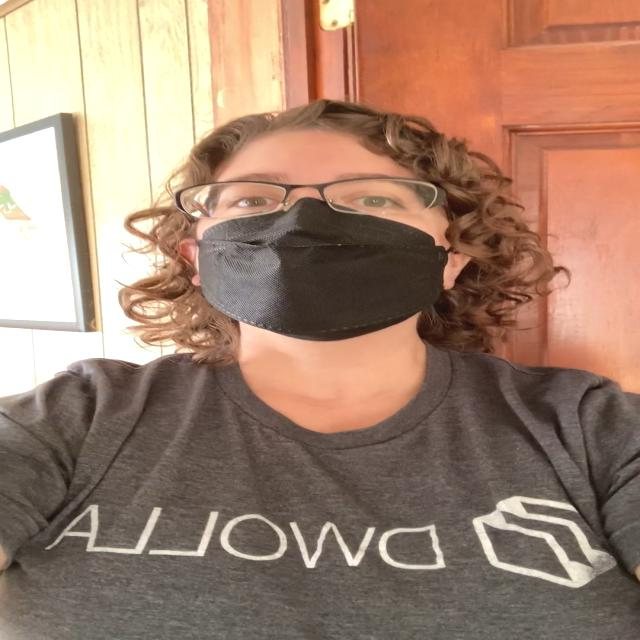mask: (189, 200, 452, 340)
no_helmet: (195, 98, 496, 168)
no_vest: (22, 359, 606, 640)
person: (0, 94, 640, 640)
